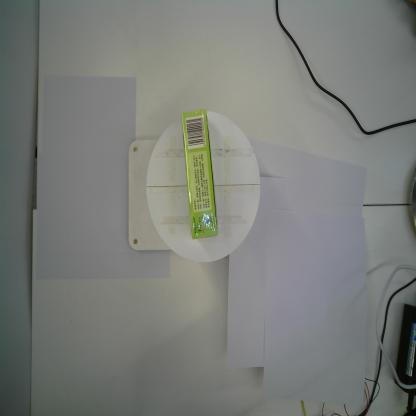Instant Drink: (182, 108, 219, 240)
